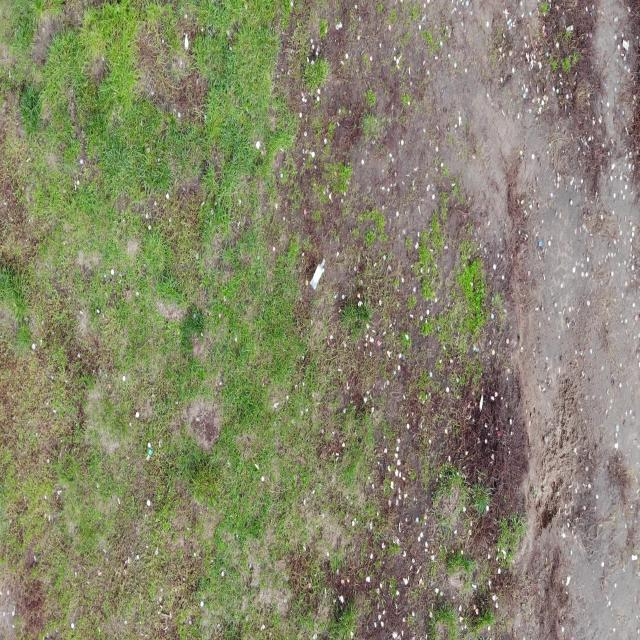rubbish: (308, 255, 325, 292), (182, 33, 189, 52)
